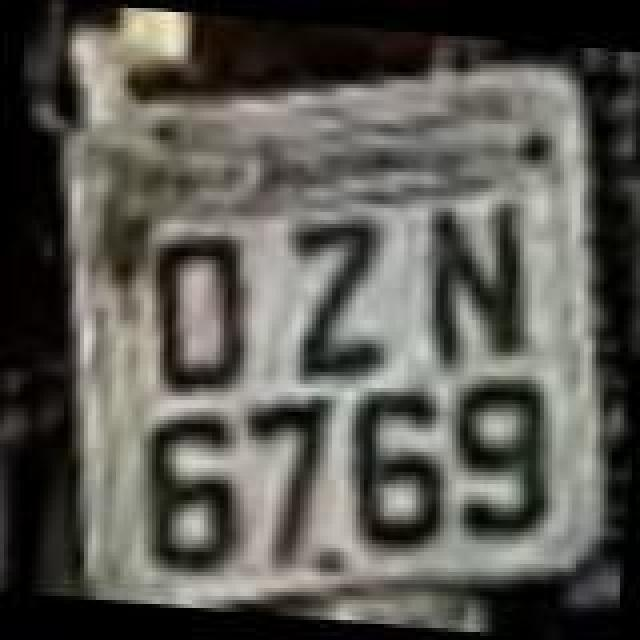6: (126, 402, 242, 582), (344, 380, 456, 548)
7: (228, 380, 332, 580)
9: (438, 368, 554, 544)
N: (414, 188, 546, 372)
O: (136, 224, 256, 400)
Z: (272, 208, 400, 384)
